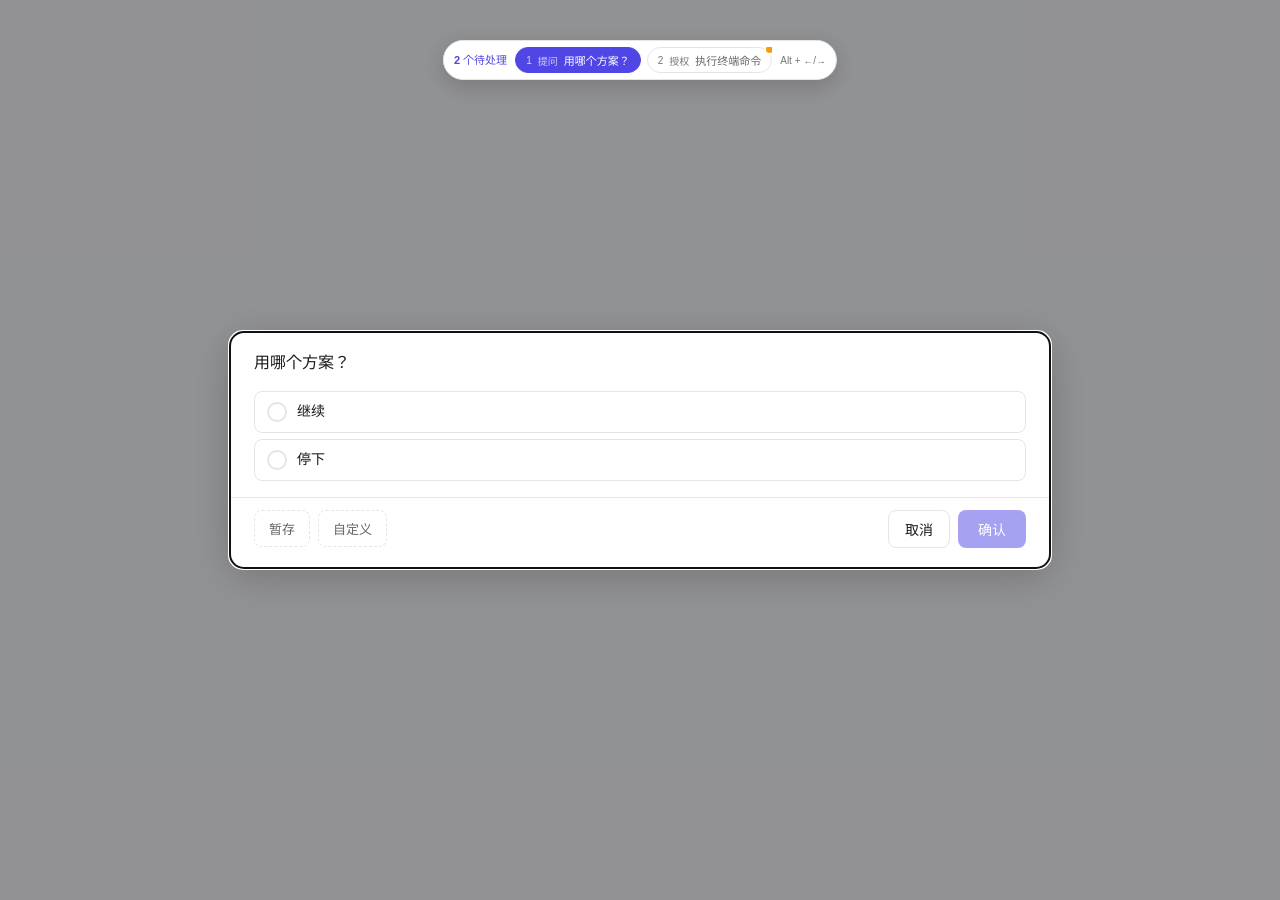
Test case: 待应答交互并发：不再互相覆盖 + 切换条 › 应答后出队：自动轮到同位置的下一项，只剩一项时切换条消失
Click the checkbox with class "choice-option" showing "继续". click: (640, 412)
box: top-left (254, 391), bottom-right (1026, 433)
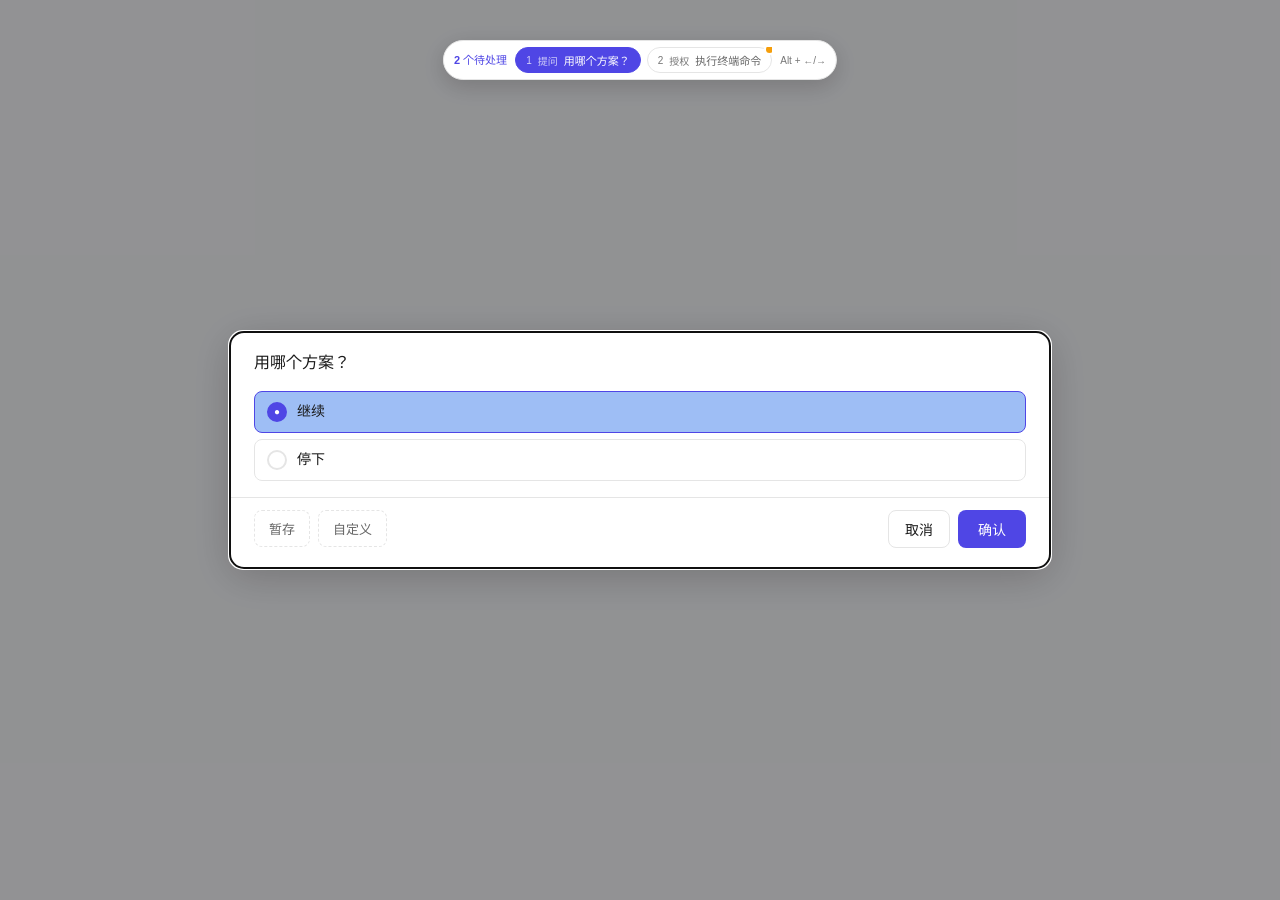
Click the button with class "btn-confirm". click: (992, 529)
box: top-left (958, 510), bottom-right (1026, 548)
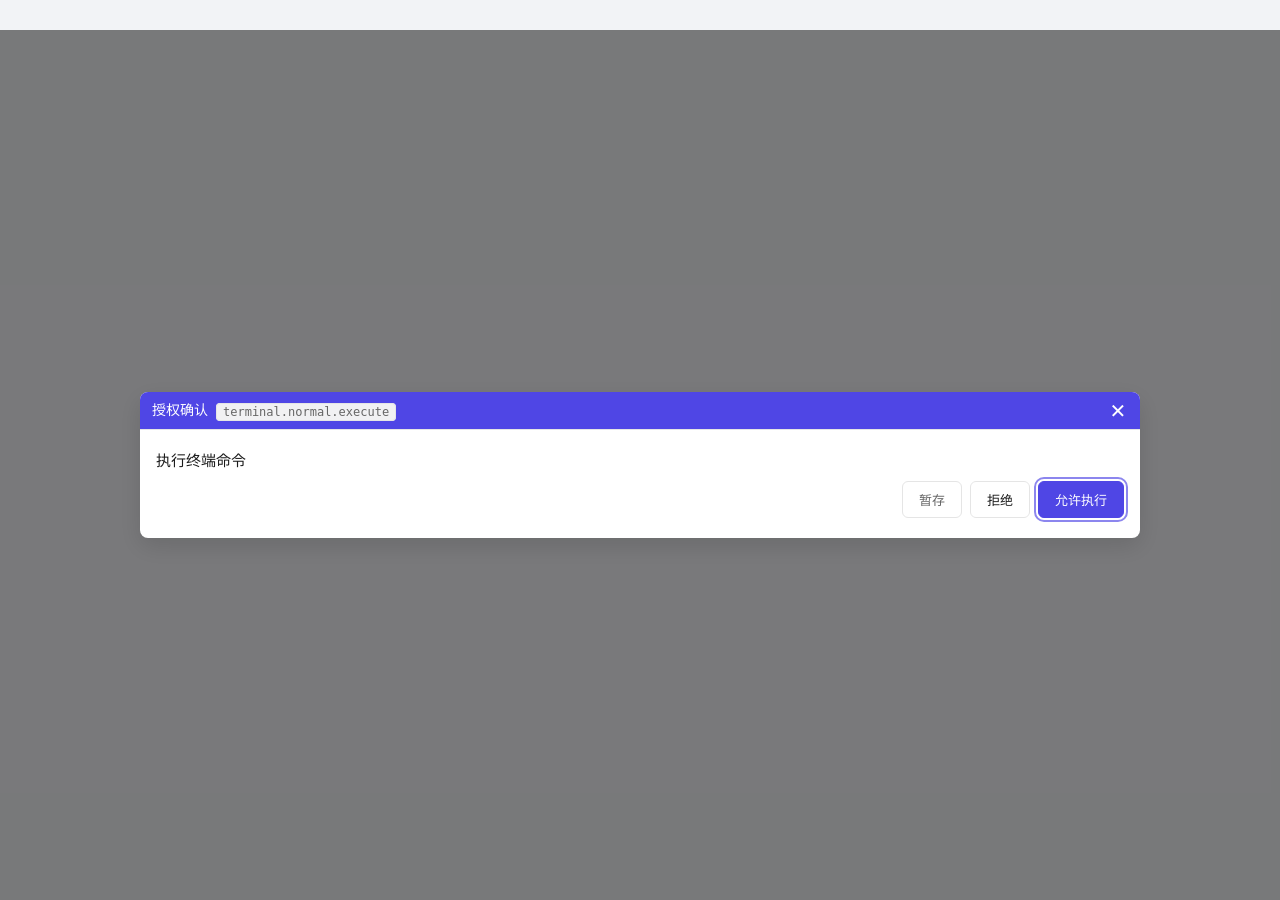
Expected: the dialog with class "user-choice-modal" is gone
Expected: the element with class "authorization" is shown, top-left (156, 442), bottom-right (1124, 526)
